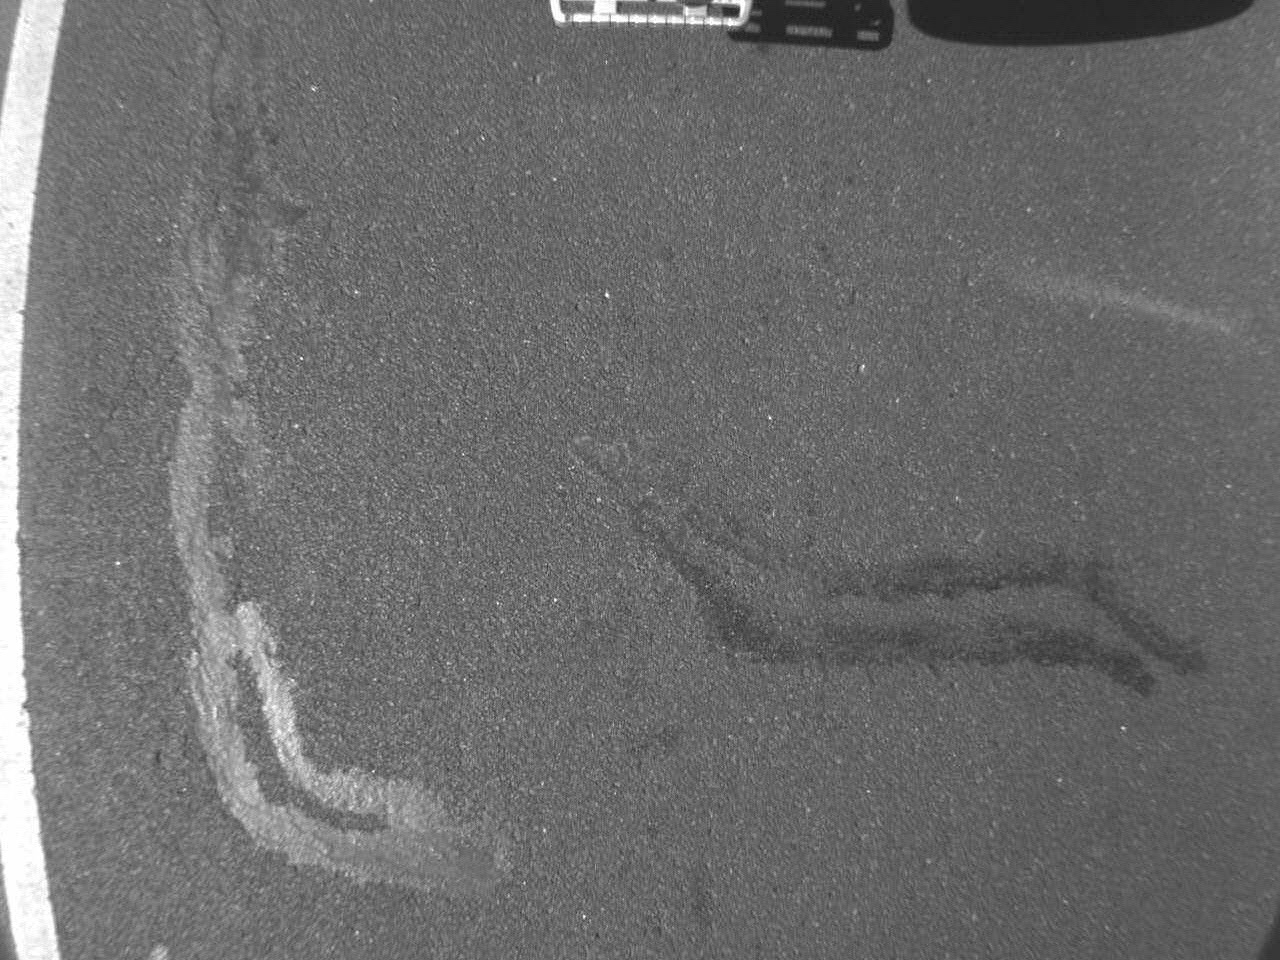sealed: (160, 7, 472, 904)
